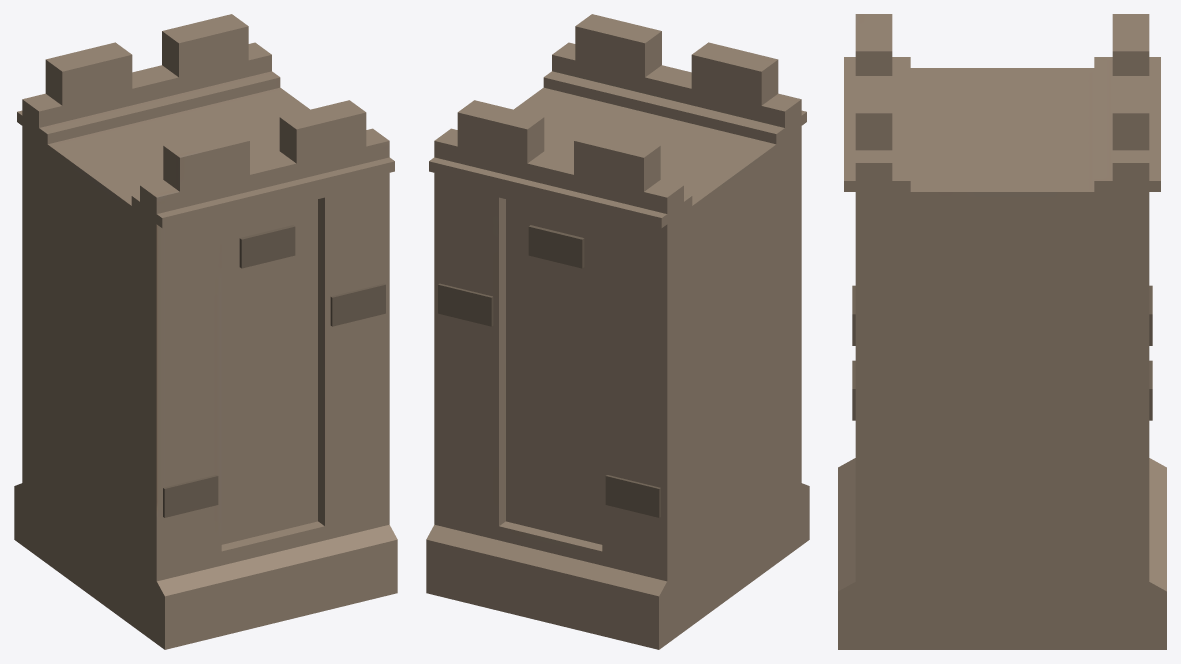
Rendered from kit-stone-hut.glb.
The picture shows the model from 3 angles, left to right: view 1: azimuth 30°, elevation 25°; view 2: azimuth 150°, elevation 25°; view 3: azimuth 270°, elevation 25°; orthographic projection. The views are drawn at different scales.
Parts seen in each view (by area): view 1: Cube.358; view 2: Cube.358; view 3: Cube.358.
Part boxes in pixels (x1,y1,x2,y2): Cube.358: (14,14,397,649); Cube.358: (426,14,809,649); Cube.358: (838,14,1166,649).
Size of the model in its own units: 2.11 by 4.16 by 2.36.
Materials: 1 (1 with a texture image).
